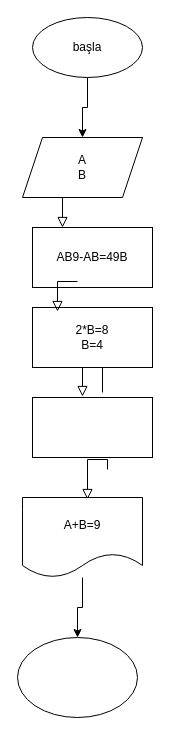
Image size: 170x735. Some labels were removed from this diagram. The centre of each missing label's shape, as x and y in pixels:
9+A=14 A=5: (x=92, y=427)
DUR: (x=77, y=677)
